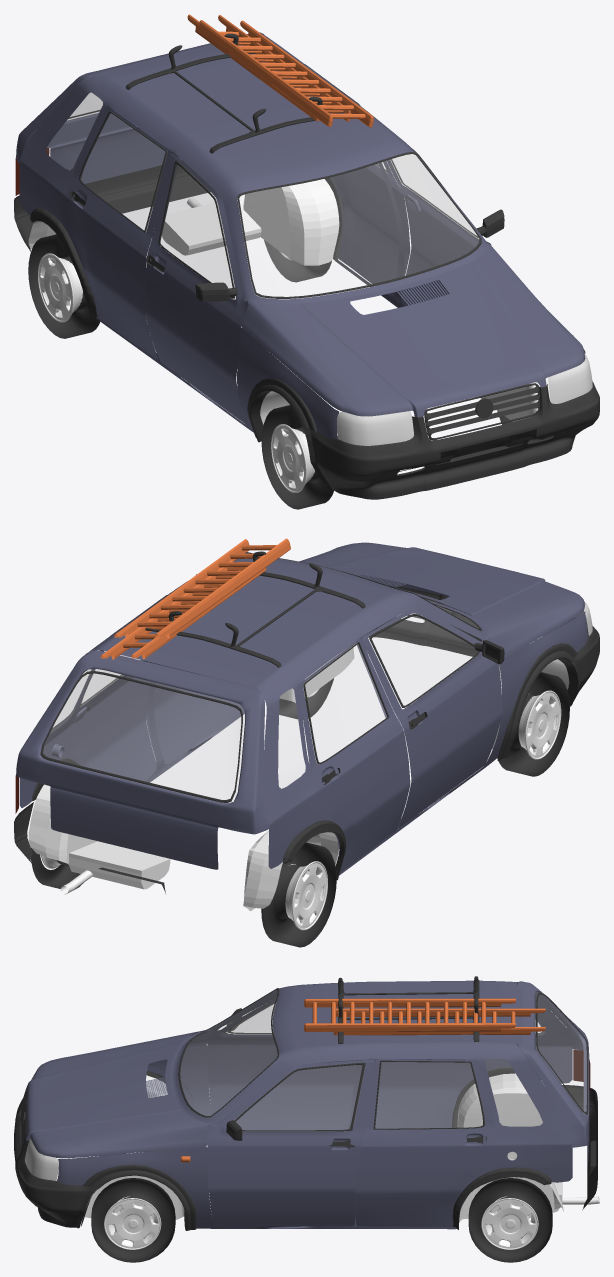
3 renders of one model, top to bottom at view 1: azimuth 30°, elevation 25°; view 2: azimuth 150°, elevation 25°; view 3: azimuth 270°, elevation 25°, orthographic. The views are drawn at different scales.
Visible parts, largest first — view 1: lataria _42, capo_43, parabrisa_30, portas traseiras_37, portas dianteiras _38, para choque _40, vidro portas frontais _29, paralama interno traseiro_2, porta malas_41, vidros portas traseiras_28, escadas.001_20, farol_32 (+18 smaller); view 2: lataria _42, porta malas_41, vidro traseiro porta malas .001_26, portas traseiras_37, portas dianteiras _38, capo_43, vidros portas traseiras_28, vidro portas frontais _29, escadas.001_20, paralama interno traseiro_2, para choque _40, escapamento_14 (+16 smaller); view 3: lataria _42, portas dianteiras _38, portas traseiras_37, capo_43, parabrisa_30, vidros portas traseiras_28, vidro portas frontais _29, escadas.001_20, porta malas_41, paralama interno traseiro_2, pneu.001_17, pneu_11 (+18 smaller).
Part boxes in pixels (<box>): lataria _42: <box>19,34,585,438</box>; capo_43: <box>242,243,584,417</box>; parabrisa_30: <box>239,154,478,296</box>; portas traseiras_37: <box>65,96,410,359</box>; portas dianteiras _38: <box>145,132,491,423</box>; para choque _40: <box>302,381,599,499</box>; vidro portas frontais _29: <box>161,154,477,287</box>; paralama interno traseiro_2: <box>28,179,339,265</box>; porta malas_41: <box>16,32,264,183</box>; vidros portas traseiras_28: <box>81,114,387,229</box>; escadas.001_20: <box>199,20,373,127</box>; farol_32: <box>337,353,592,445</box>; lataria _42: <box>19,553,588,875</box>; porta malas_41: <box>16,650,269,869</box>; vidro traseiro porta malas .001_26: <box>43,669,244,803</box>; portas traseiras_37: <box>66,595,410,872</box>; portas dianteiras _38: <box>146,609,502,827</box>; capo_43: <box>299,542,584,657</box>; vidros portas traseiras_28: <box>81,645,386,761</box>; vidro portas frontais _29: <box>369,616,476,705</box>; escadas.001_20: <box>114,538,290,638</box>; paralama interno traseiro_2: <box>28,784,338,910</box>; para choque _40: <box>367,585,599,706</box>; escapamento_14: <box>60,841,170,894</box>; lataria _42: <box>20,980,572,1229</box>; portas dianteiras _38: <box>207,997,374,1226</box>; portas traseiras_37: <box>356,1059,495,1226</box>; capo_43: <box>25,1030,207,1158</box>; parabrisa_30: <box>180,990,277,1115</box>; vidros portas traseiras_28: <box>375,1062,482,1128</box>; vidro portas frontais _29: <box>228,1003,361,1129</box>; escadas.001_20: <box>304,998,515,1031</box>; porta malas_41: <box>517,981,589,1165</box>; paralama interno traseiro_2: <box>457,1073,563,1221</box>; pneu.001_17: <box>91,1178,175,1262</box>; pneu_11: <box>468,1178,552,1262</box>.
Size of the model in its own units: 3.17 by 2.77 by 6.49.
